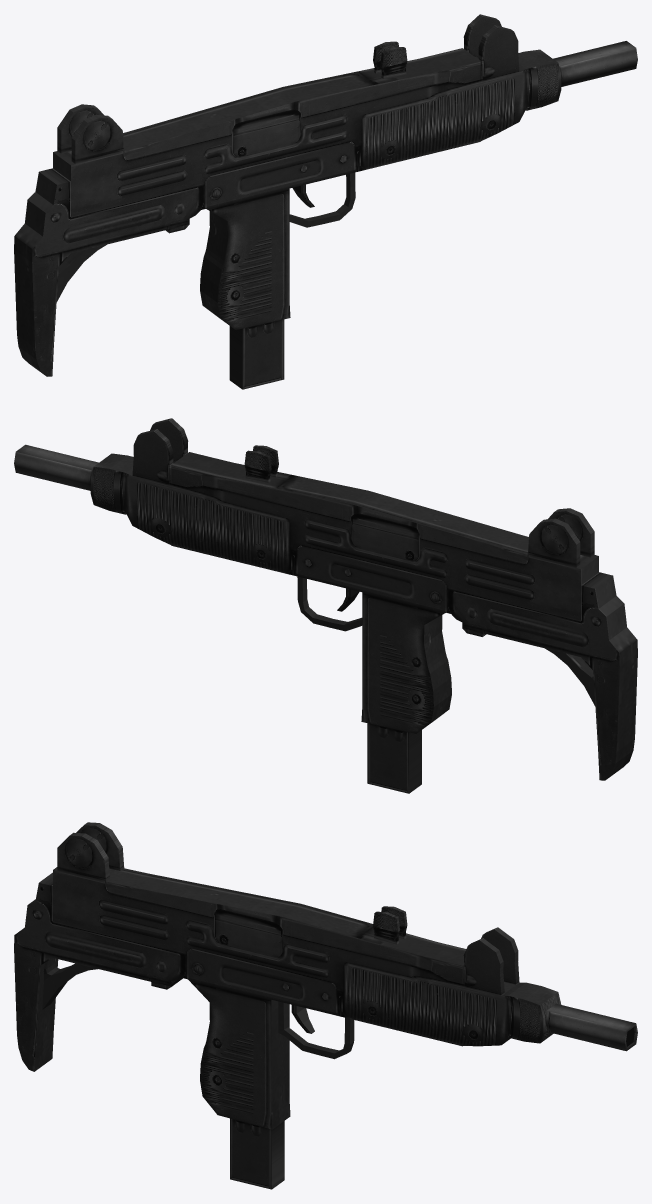
Rendered from UZI.fbx.
The picture shows the model from 3 angles, top to bottom: view 1: azimuth 30°, elevation 25°; view 2: azimuth 150°, elevation 25°; view 3: azimuth 330°, elevation 25°; orthographic projection.
Visible parts, largest first — view 1: UZI; view 2: UZI; view 3: UZI.
Boxes of the visible parts, left/top/right/bottom form: UZI: left=14, top=14, right=637, bottom=389; UZI: left=14, top=418, right=637, bottom=793; UZI: left=14, top=822, right=637, bottom=1189.
Size of the model in its own units: 46.43 by 22.59 by 2.4.
